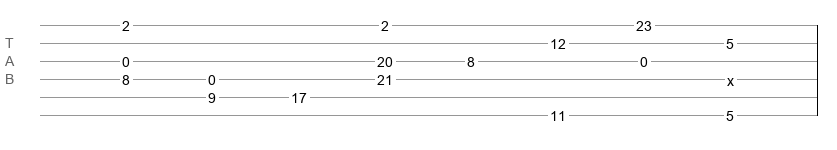0: (122, 54, 130, 64), (208, 72, 216, 82), (640, 54, 648, 64)
11: (550, 108, 566, 118)
12: (550, 36, 566, 46)
17: (291, 90, 307, 100)
2: (122, 18, 130, 28), (381, 18, 389, 28)
20: (377, 54, 393, 64)
21: (377, 72, 393, 82)
23: (636, 18, 652, 28)
5: (726, 108, 734, 118), (726, 36, 734, 46)
8: (122, 72, 130, 82), (467, 54, 475, 64)
9: (208, 90, 216, 100)
x: (727, 73, 734, 81)
